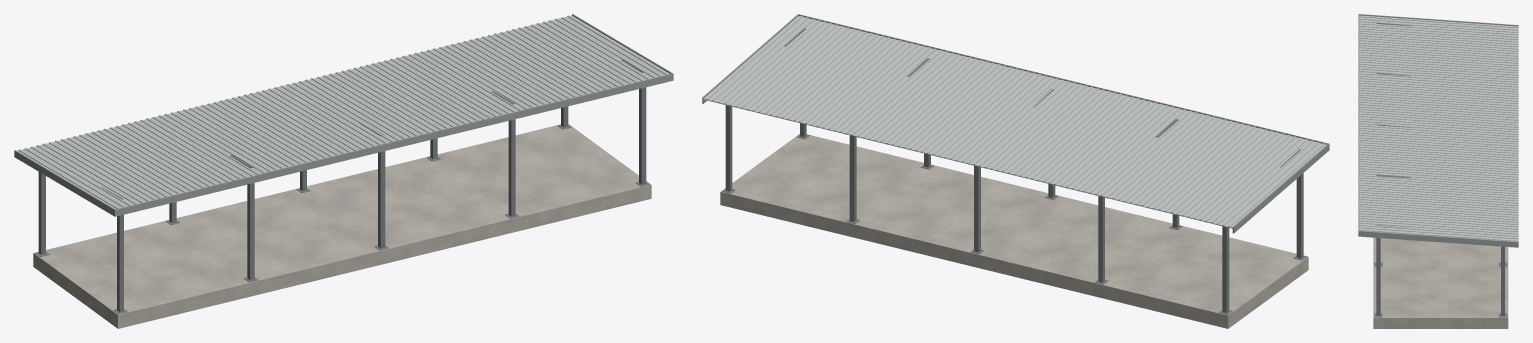
The model's file is lean_to.glb.
3 views of the same model, side by side, from view 1: azimuth 30°, elevation 25°; view 2: azimuth 150°, elevation 25°; view 3: azimuth 270°, elevation 25° (orthographic). The views are drawn at different scales.
Parts seen in each view (by area): view 1: lean_to_concrete, lean_to_sheet_a, lean_to_steel_d, lean_to_trim; view 2: lean_to_sheet_a, lean_to_concrete, lean_to_steel_d, lean_to_trim; view 3: lean_to_sheet_a, lean_to_concrete, lean_to_trim, lean_to_steel_d.
Part boxes in pixels (box(x1,y1,x2,y2)): lean_to_concrete: box(33, 124, 651, 328); lean_to_sheet_a: box(17, 15, 669, 209); lean_to_steel_d: box(35, 59, 649, 314); lean_to_trim: box(14, 14, 673, 216); lean_to_sheet_a: box(703, 16, 1326, 228); lean_to_concrete: box(720, 134, 1308, 328); lean_to_steel_d: box(722, 28, 1306, 314); lean_to_trim: box(702, 14, 1329, 233); lean_to_sheet_a: box(1359, 15, 1518, 241); lean_to_concrete: box(1373, 237, 1508, 328); lean_to_trim: box(1358, 14, 1518, 247); lean_to_steel_d: box(1374, 22, 1507, 317).
Bounding box in the file's own units: 14.66 × 3.23 × 4.58.
5 materials, 1 textured.
